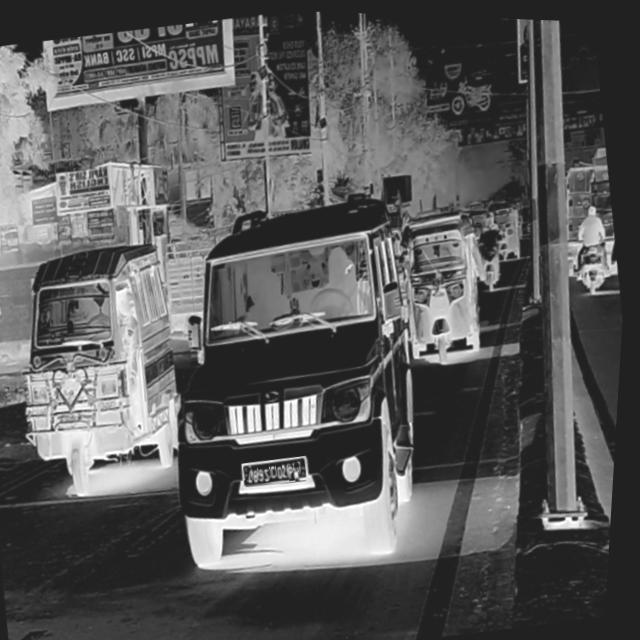0: (281, 464, 290, 479)
2: (268, 465, 277, 481)
3: (287, 463, 295, 479)
6: (263, 464, 271, 481)
7: (252, 466, 259, 482)
8: (257, 466, 265, 481)
C: (275, 465, 283, 480)
IND: (305, 458, 313, 475)
Indian_registered: (247, 454, 313, 484)
M: (299, 461, 307, 479)
P: (293, 463, 301, 479)
